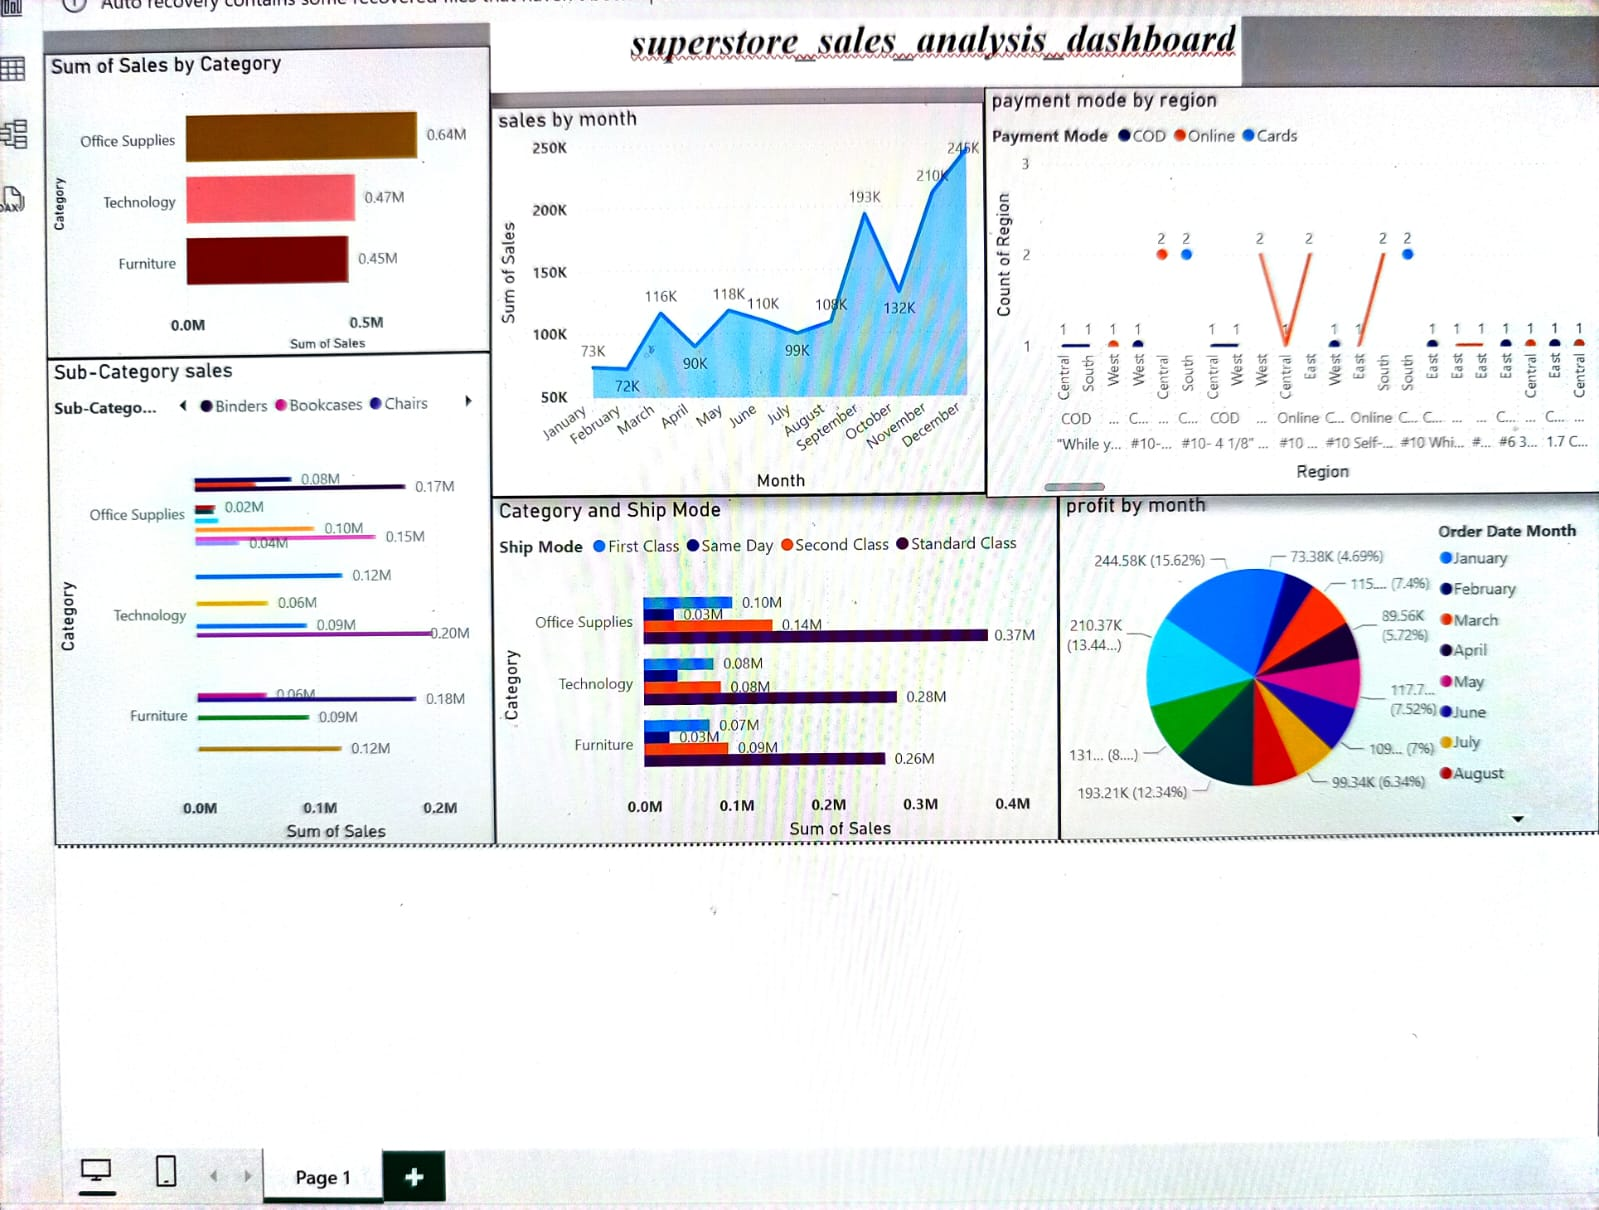

The dashboard page shown, as its layout file describes it:
{"tool":"powerbi","page":{"name":"Page 1","canvas":[1280,720],"ordinal":0},"visuals":[{"type":"clusteredBarChart","fields":{"Category":["SuperStore_Sales_Dataset.Category"],"Y":["Sum(SuperStore_Sales_Dataset.Sales)"]},"box":[0,66.5,369.5,251.2],"z":0},{"type":"clusteredBarChart","title":" Sub-Category sales","fields":{"Category":["SuperStore_Sales_Dataset.Category"],"Y":["Sum(SuperStore_Sales_Dataset.Sales)"],"Series":["SuperStore_Sales_Dataset.Sub-Category"]},"box":[0,317.7,369.5,402.7],"z":1},{"type":"clusteredBarChart","title":" Category and Ship Mode","fields":{"Category":["SuperStore_Sales_Dataset.Category"],"Y":["Sum(SuperStore_Sales_Dataset.Sales)"],"Series":["SuperStore_Sales_Dataset.Ship Mode"]},"box":[369.5,436,461.2,284.4],"z":2},{"type":"areaChart","title":"sales by month","fields":{"Category":["SuperStore_Sales_Dataset.Category","SuperStore_Sales_Dataset.Order Date.Variation.Date Hierarchy.Year","SuperStore_Sales_Dataset.Order Date.Variation.Date Hierarchy.Quarter","SuperStore_Sales_Dataset.Order Date.Variation.Date Hierarchy.Month","SuperStore_Sales_Dataset.Order Date.Variation.Date Hierarchy.Day"],"Y":["Sum(SuperStore_Sales_Dataset.Sales)","Sum(SuperStore_Sales_Dataset.Sales)"]},"box":[369.5,117,402.7,319],"z":3},{"type":"pieChart","title":"profit by month","fields":{"Category":["SuperStore_Sales_Dataset.Category","SuperStore_Sales_Dataset.Order Date.Variation.Date Hierarchy.Year","SuperStore_Sales_Dataset.Order Date.Variation.Date Hierarchy.Quarter","SuperStore_Sales_Dataset.Order Date.Variation.Date Hierarchy.Month","SuperStore_Sales_Dataset.Order Date.Variation.Date Hierarchy.Day"],"Y":["Sum(SuperStore_Sales_Dataset.Sales)"]},"box":[830.7,436,449.3,284.4],"z":4},{"type":"lineChart","title":"payment mode by region","fields":{"Category":["SuperStore_Sales_Dataset.Product Name","SuperStore_Sales_Dataset.Payment Mode","SuperStore_Sales_Dataset.Region"],"Series":["SuperStore_Sales_Dataset.Payment Mode"],"Y":["CountNonNull(SuperStore_Sales_Dataset.Region)"]},"box":[772.3,105,510.4,335],"z":5},{"type":"textbox","box":[369.5,42.5,598.1,74.4],"z":6}]}

Visuals, with their boxes in screenshot pixels (x1, y1, x2, y2):
clusteredBarChart - SuperStore_Sales_Dataset.Category x Sum(SuperStore_Sales_Dataset.Sales): <bbox>33, 36, 489, 346</bbox>
" Sub-Category sales" clusteredBarChart: <bbox>33, 346, 489, 842</bbox>
" Category and Ship Mode" clusteredBarChart: <bbox>489, 491, 1057, 842</bbox>
"sales by month" areaChart: <bbox>489, 98, 985, 491</bbox>
"profit by month" pieChart: <bbox>1057, 491, 1598, 842</bbox>
"payment mode by region" lineChart: <bbox>985, 84, 1598, 496</bbox>
textbox: <bbox>489, 7, 1225, 98</bbox>
